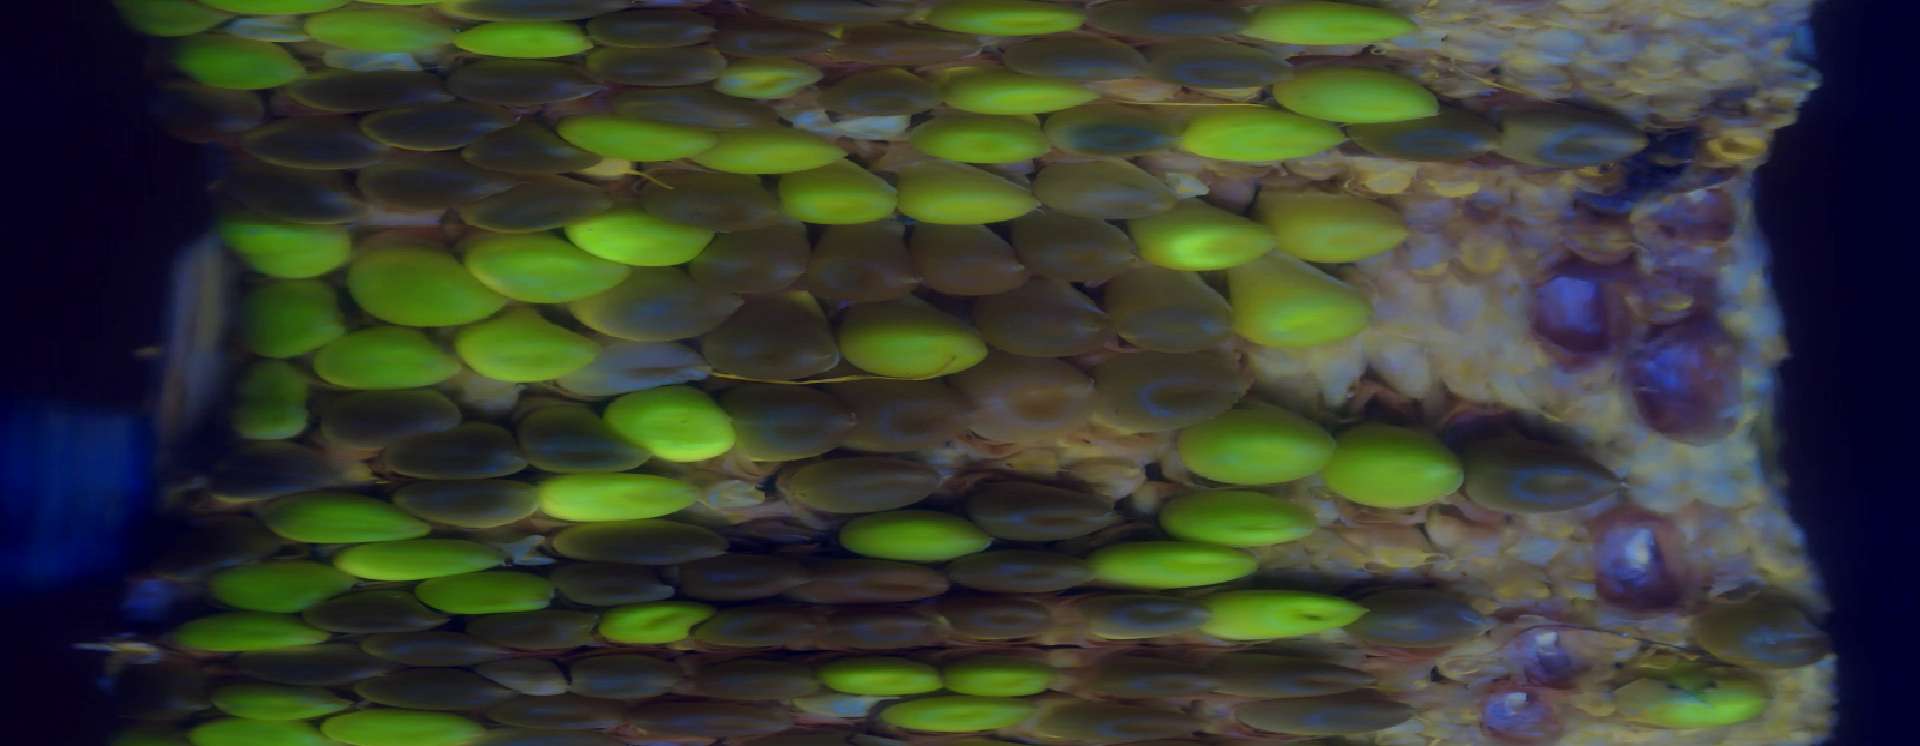fluorescent: (833, 296, 989, 383), (1236, 265, 1378, 354), (347, 240, 492, 323), (1619, 658, 1776, 735), (456, 306, 601, 383), (1338, 425, 1464, 513), (1272, 187, 1416, 263), (607, 387, 733, 472), (1179, 403, 1330, 473), (263, 488, 433, 548), (222, 277, 349, 354), (212, 217, 356, 281), (1284, 62, 1438, 121), (1187, 107, 1352, 160), (309, 322, 453, 383), (571, 213, 718, 273), (901, 157, 1037, 220), (1150, 492, 1329, 540), (1249, 1, 1434, 47), (775, 167, 916, 225), (535, 474, 704, 522), (838, 513, 998, 563), (204, 561, 361, 611), (1093, 541, 1262, 588), (474, 247, 611, 304), (1212, 589, 1360, 641), (944, 69, 1096, 118), (326, 539, 516, 578), (1141, 207, 1270, 265), (216, 361, 311, 435), (171, 612, 333, 655), (322, 706, 489, 746), (911, 115, 1048, 163), (312, 7, 449, 54), (716, 134, 852, 180), (408, 575, 564, 614), (713, 59, 841, 107), (564, 118, 713, 158), (457, 22, 601, 62), (926, 1, 1086, 37), (867, 698, 1027, 733), (211, 684, 361, 717), (591, 600, 711, 641), (813, 659, 949, 695), (181, 50, 309, 87), (940, 655, 1052, 696), (182, 713, 312, 746), (133, 1, 227, 43)
nonfluorescent: (1476, 99, 1659, 176), (1467, 432, 1633, 517), (961, 356, 1100, 446), (1109, 267, 1240, 352), (726, 379, 851, 465), (980, 284, 1118, 361), (1102, 355, 1251, 425), (896, 218, 1029, 294), (844, 376, 965, 458), (513, 401, 648, 474), (1700, 589, 1828, 665), (465, 170, 622, 232), (784, 458, 961, 510), (973, 481, 1120, 543), (383, 424, 533, 484), (429, 51, 599, 104), (1344, 109, 1500, 167), (1007, 214, 1140, 281), (1136, 40, 1294, 94), (1029, 159, 1174, 217), (1360, 587, 1491, 650), (724, 303, 846, 370), (591, 273, 709, 343), (1081, 648, 1231, 702), (637, 169, 782, 224), (999, 32, 1144, 87), (467, 118, 600, 174), (609, 89, 774, 135), (1048, 699, 1209, 746), (251, 120, 383, 176), (359, 156, 480, 217), (1091, 1, 1251, 47), (392, 484, 546, 530), (804, 228, 909, 296), (358, 669, 511, 715), (699, 229, 813, 292), (1229, 692, 1420, 729), (1217, 650, 1385, 692), (211, 443, 337, 499), (950, 552, 1104, 597), (572, 343, 718, 390), (320, 394, 458, 443), (550, 524, 732, 561), (636, 699, 806, 739), (110, 650, 203, 722), (157, 80, 269, 137), (239, 171, 358, 224), (144, 513, 266, 565), (1069, 598, 1217, 639), (825, 69, 947, 118), (943, 599, 1062, 648), (1051, 107, 1172, 154), (577, 50, 729, 88), (576, 13, 726, 51), (291, 76, 435, 115), (798, 563, 940, 603), (491, 696, 639, 733), (684, 658, 825, 696), (822, 614, 958, 652), (366, 110, 492, 151), (698, 611, 825, 650), (317, 594, 436, 636), (465, 614, 598, 650), (846, 33, 987, 67), (362, 628, 503, 661), (235, 650, 373, 684), (567, 654, 680, 695), (551, 566, 673, 603), (680, 561, 802, 598), (718, 24, 820, 61), (495, 663, 572, 695)
